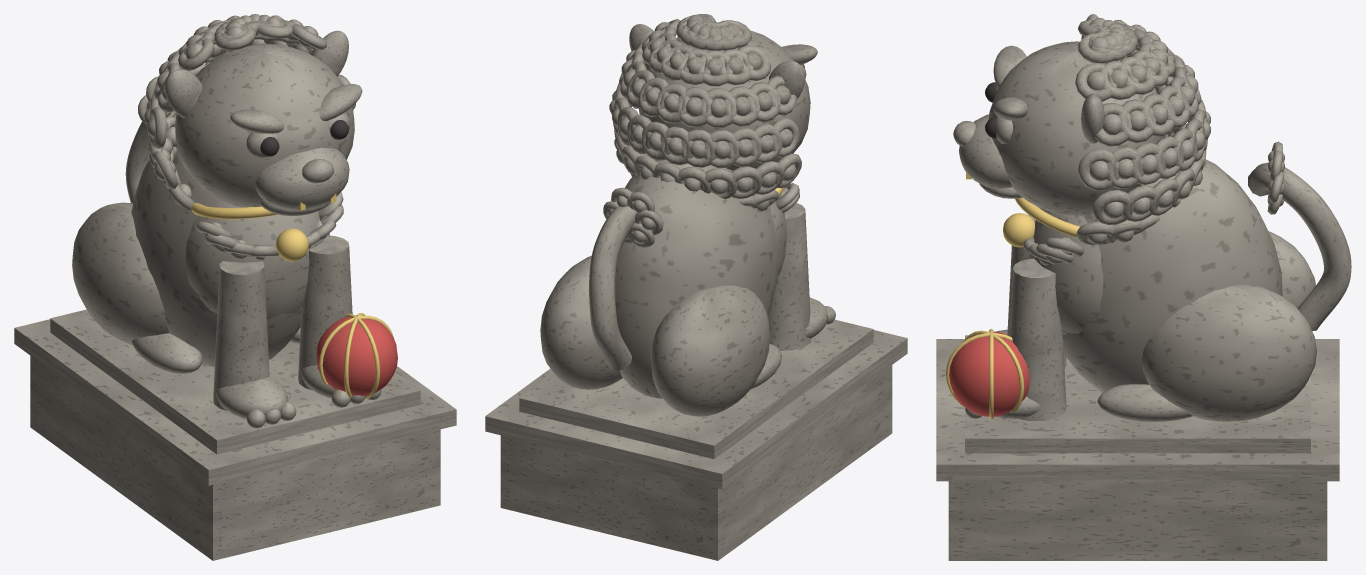
The model's file is sample-lion.glb.
The picture shows the model from 3 angles, left to right: view 1: azimuth 30°, elevation 25°; view 2: azimuth 150°, elevation 25°; view 3: azimuth 270°, elevation 25°; orthographic projection. The views are drawn at different scales.
Visible parts, largest first — view 1: sample-lion; view 2: sample-lion; view 3: sample-lion.
Part boxes in pixels (box(x1,y1,x2,y2)): sample-lion: box(14, 14, 456, 560); sample-lion: box(485, 14, 907, 560); sample-lion: box(936, 14, 1351, 560).
Bounding box in the file's own units: 1.46 × 2.57 × 2.04.
4 materials, 1 textured.
